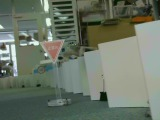stop: (40, 39, 67, 63)
